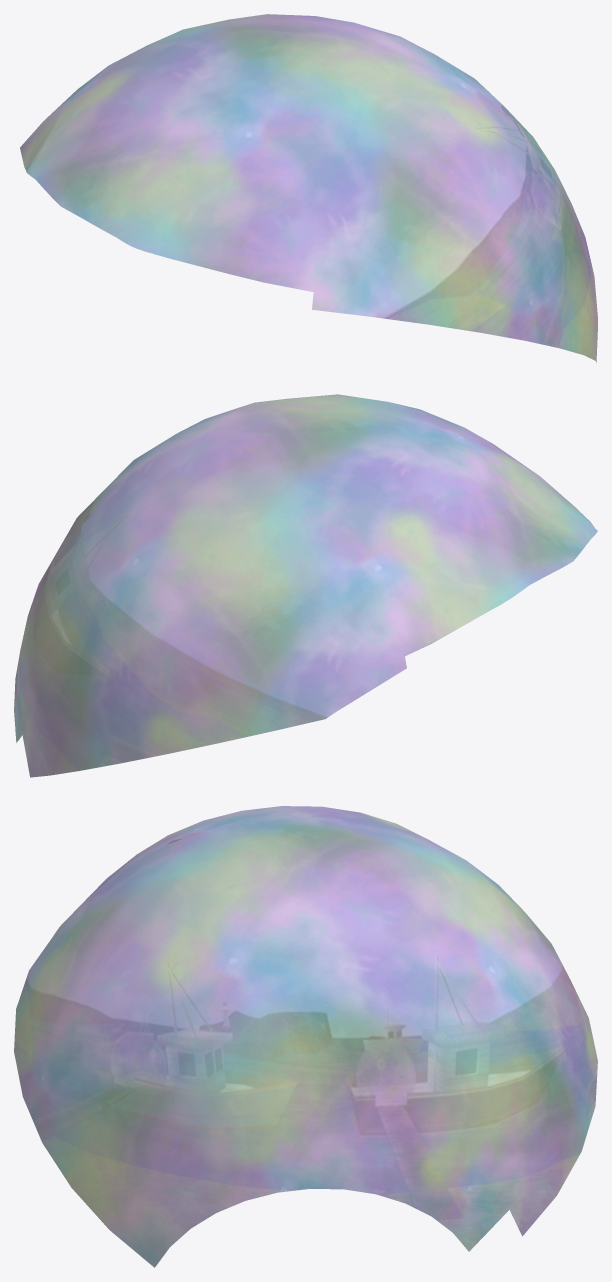
Rendered from bubble_sea2.glb.
The picture shows the model from 3 angles, top to bottom: view 1: azimuth 30°, elevation 25°; view 2: azimuth 150°, elevation 25°; view 3: azimuth 270°, elevation 25°; orthographic projection. The views are drawn at different scales.
Parts seen in each view (by area): view 1: bubble.png__, envmap3.png__; view 2: bubble.png__, envmap3.png__; view 3: bubble.png__, envmap3.png__.
Part boxes in pixels (x1,y1,x2,y2): bubble.png__: [20, 14, 597, 362]; envmap3.png__: [20, 14, 597, 360]; bubble.png__: [14, 394, 597, 777]; envmap3.png__: [14, 395, 596, 776]; bubble.png__: [14, 806, 597, 1267]; envmap3.png__: [14, 806, 597, 1266].
Bounding box in the file's own units: 12.55 × 7.74 × 12.96.
Materials: 2 (2 with a texture image).
